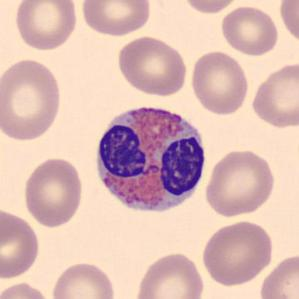Eosinophil: (90, 98, 211, 222)
RBC: (0, 55, 65, 144), (202, 146, 278, 219), (200, 218, 275, 288), (21, 155, 86, 229), (114, 34, 190, 97), (189, 49, 250, 116), (132, 249, 207, 299), (12, 0, 80, 52), (248, 60, 298, 130), (218, 4, 281, 57), (0, 207, 42, 281), (79, 0, 154, 38), (49, 259, 118, 299), (257, 251, 299, 299), (0, 280, 53, 299), (276, 0, 298, 45), (181, 0, 243, 15)
